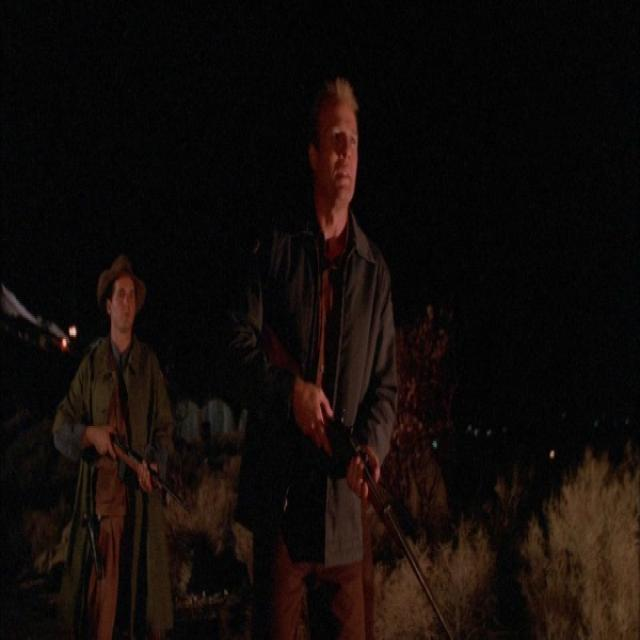rifle: (266, 327, 460, 640), (111, 439, 175, 514)
